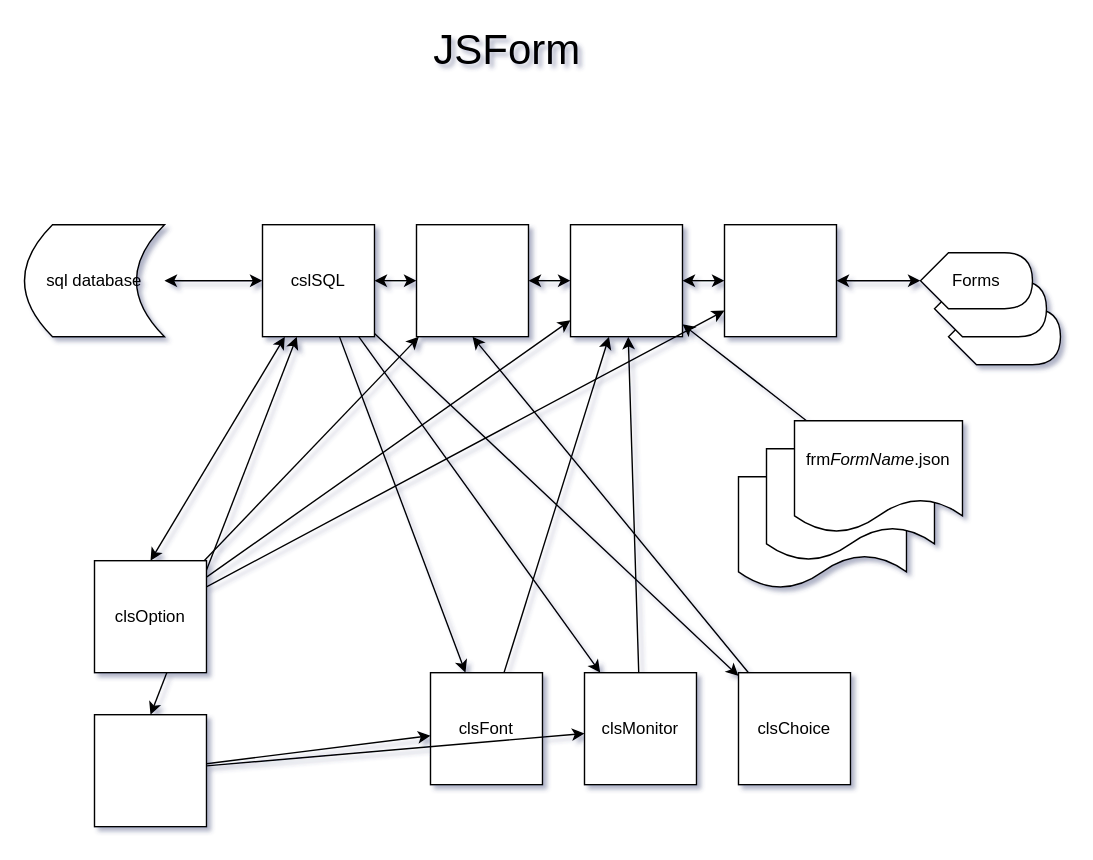
The diagram is 1093 pixels wide and 860 high, and some of its shapes have lost their labels. Each missing label, with the centre of its shape:
clsConfig: the point at 149,770
clsDB: the point at 471,280
clsField: the point at 779,280
clsForm: the point at 625,280
